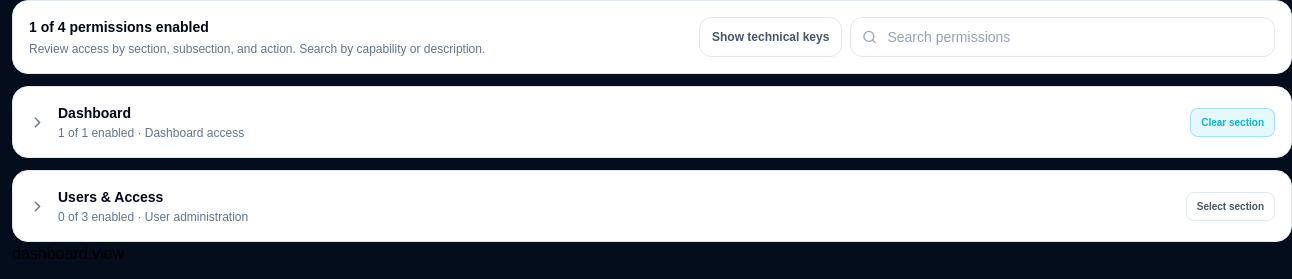
it: PermissionEditor › selecting a section selects all of its subsection actions
Click the button "Select section" at point(1230, 206), box [1186,192,1275,220]
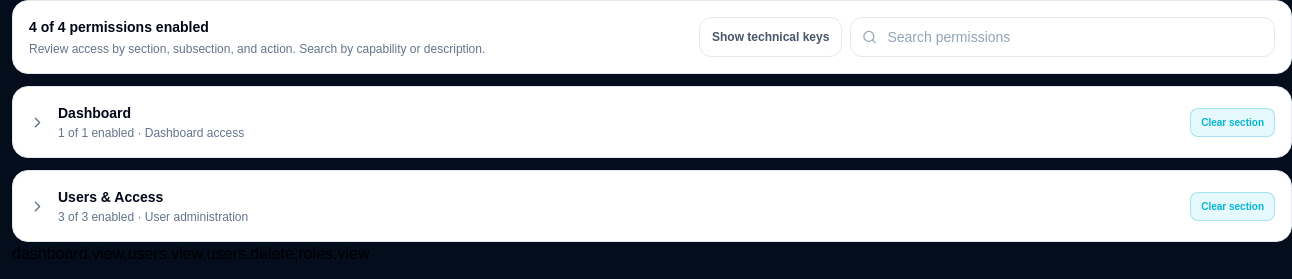
Expected: the text with test id "permissions" shows "users.view", [12,245,370,262]
Expected: the text with test id "permissions" shows "users.delete", [12,245,370,262]
Expected: the text with test id "permissions" shows "roles.view", [12,245,370,262]
